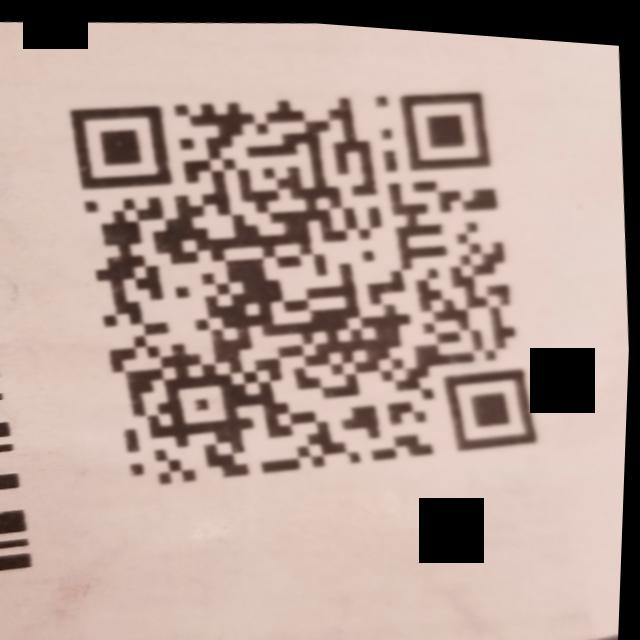QR_CODE: (39, 39, 579, 532)
